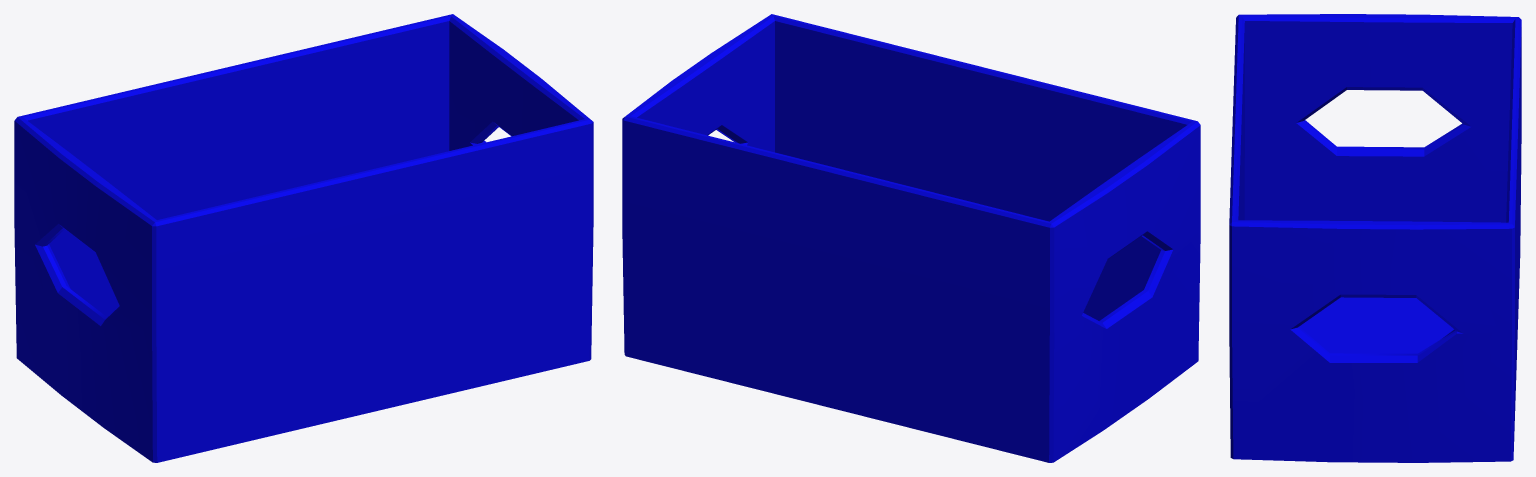
File: caixa_brinquedo.FBX
3 views of the same model, side by side, from view 1: azimuth 30°, elevation 25°; view 2: azimuth 150°, elevation 25°; view 3: azimuth 270°, elevation 25° (orthographic).
Parts seen in each view (by area): view 1: caixa de brinquedo; view 2: caixa de brinquedo; view 3: caixa de brinquedo.
Boxes of the visible parts, x1=… form: caixa de brinquedo: x1=14, y1=14, x2=593, y2=462; caixa de brinquedo: x1=622, y1=14, x2=1200, y2=462; caixa de brinquedo: x1=1229, y1=14, x2=1521, y2=462.
Bounding box in the file's own units: 135 × 78.05 × 70.1.
